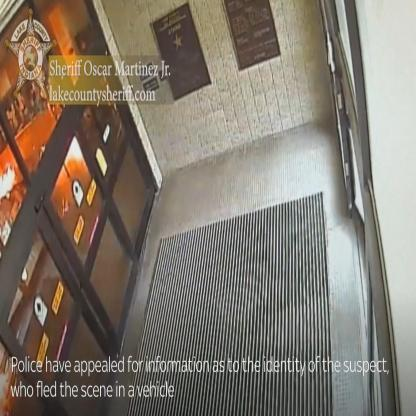fire: (64, 134, 84, 160), (0, 167, 16, 197)
